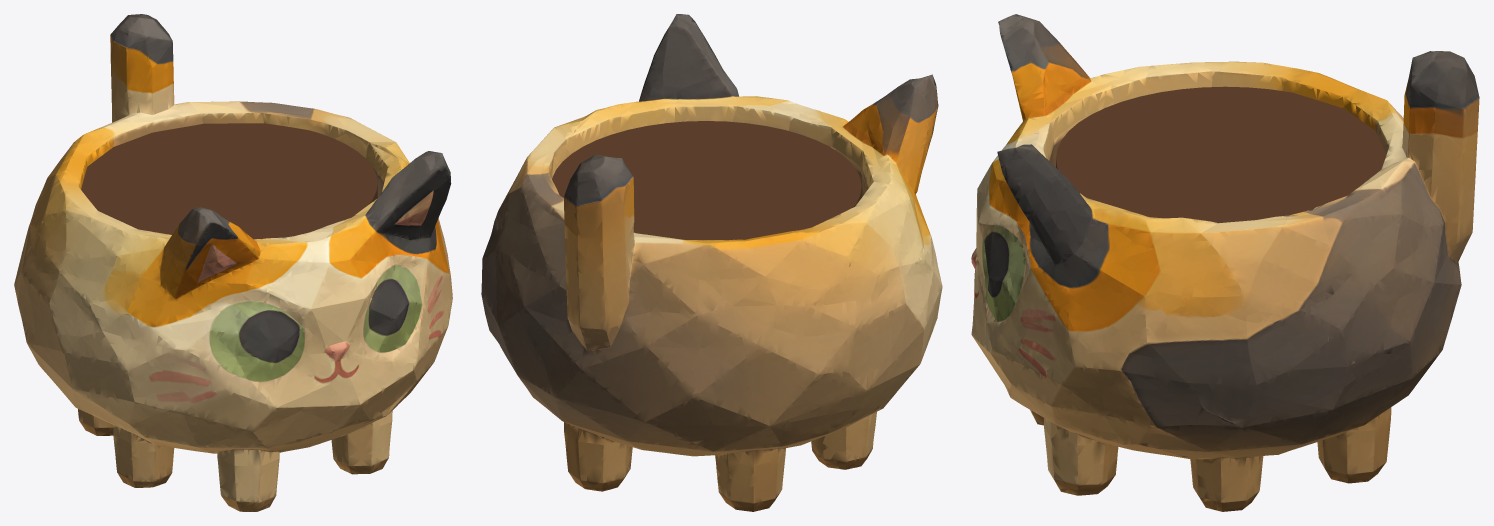
The model's file is cat-pot-planted.glb.
3 views of the same model, side by side, from view 1: azimuth 30°, elevation 25°; view 2: azimuth 150°, elevation 25°; view 3: azimuth 270°, elevation 25° (orthographic). The views are drawn at different scales.
Visible parts, largest first — view 1: tripo_node_67e06cd4; view 2: tripo_node_67e06cd4; view 3: tripo_node_67e06cd4.
Boxes of the visible parts, box(x1,y1,x2,y2) form: tripo_node_67e06cd4: box(14, 14, 452, 511); tripo_node_67e06cd4: box(481, 14, 942, 511); tripo_node_67e06cd4: box(971, 14, 1479, 511).
Bounding box in the file's own units: 0.784 × 0.7 × 0.8091.
Materials: 2 (1 with a texture image).
